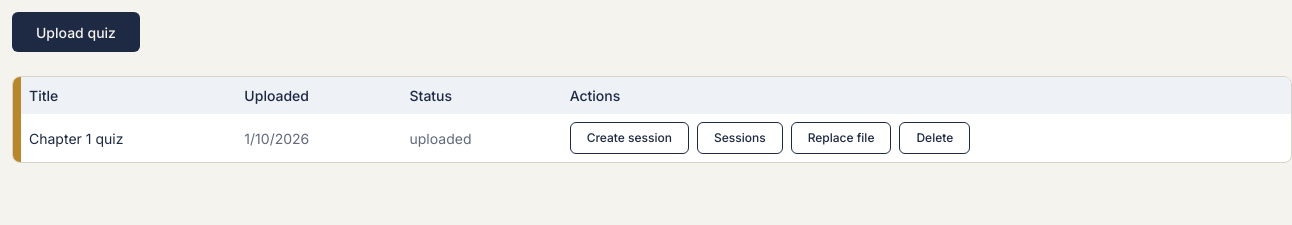
Scenario: QuizzesSection (QUIZ-DASHBOARD-001, extracted by COURSE-DETAIL-001) › shows an error when delete fails
Expected: the text "Chapter 1 quiz" is shown, [13, 114, 228, 162]
Click the button "Delete" at coordinates (935, 138), box [900, 122, 970, 154]
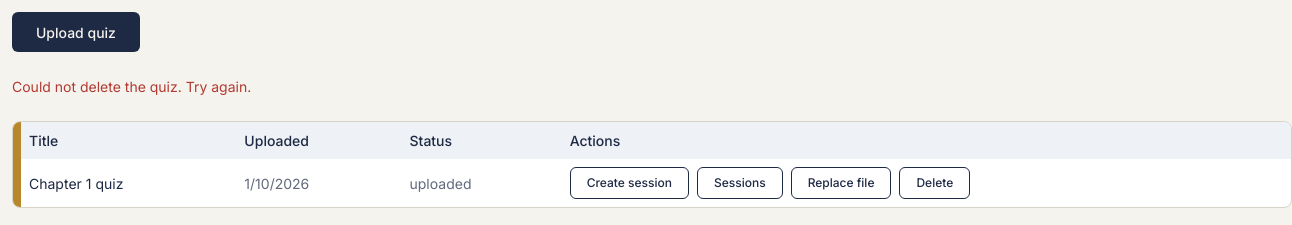
Now the text "Could not delete the quiz. Try again." is shown, box [12, 78, 251, 95]
